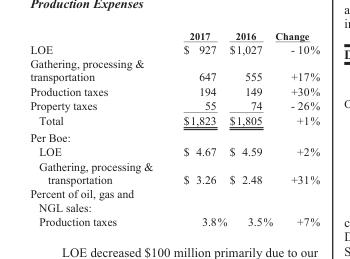table: (29, 29, 319, 227)
table column: (29, 29, 167, 227), (167, 29, 227, 227), (227, 29, 273, 227), (273, 29, 319, 227)
table column header: (29, 29, 319, 41)
table projected row header: (29, 186, 319, 213), (29, 128, 319, 144)
table row: (29, 55, 319, 83), (29, 158, 319, 186), (29, 186, 319, 213), (29, 112, 319, 128), (29, 128, 319, 144), (29, 97, 319, 112), (29, 41, 319, 55), (29, 83, 319, 97), (29, 144, 319, 158), (29, 213, 319, 227), (29, 29, 319, 41)
